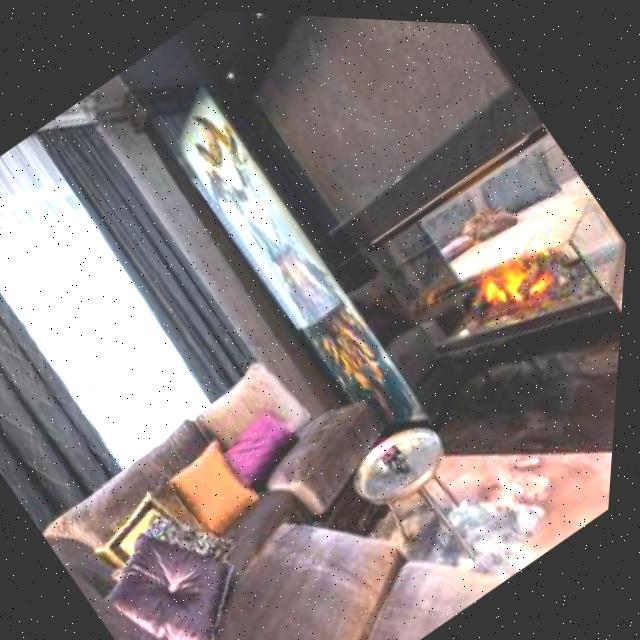Fire: (457, 223, 575, 339)
